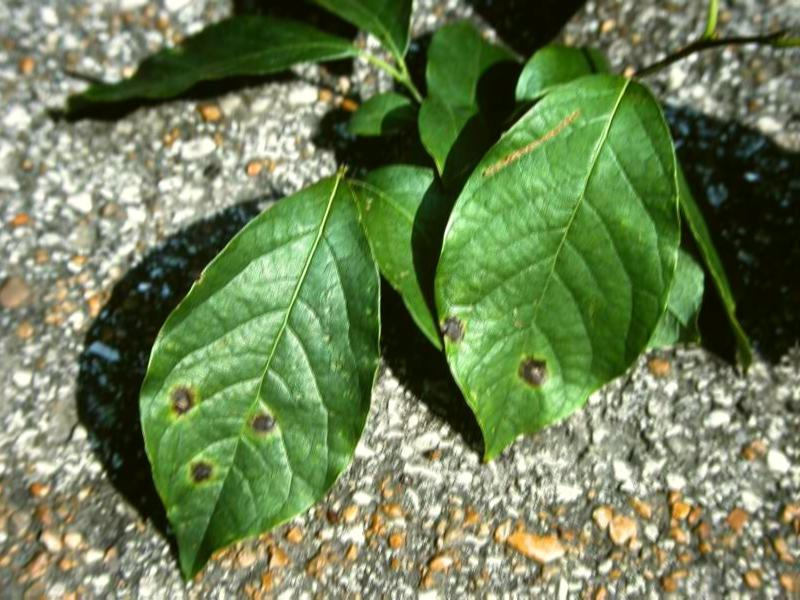Tomato leaf bacterial spot: (110, 171, 392, 596), (419, 73, 688, 474)
